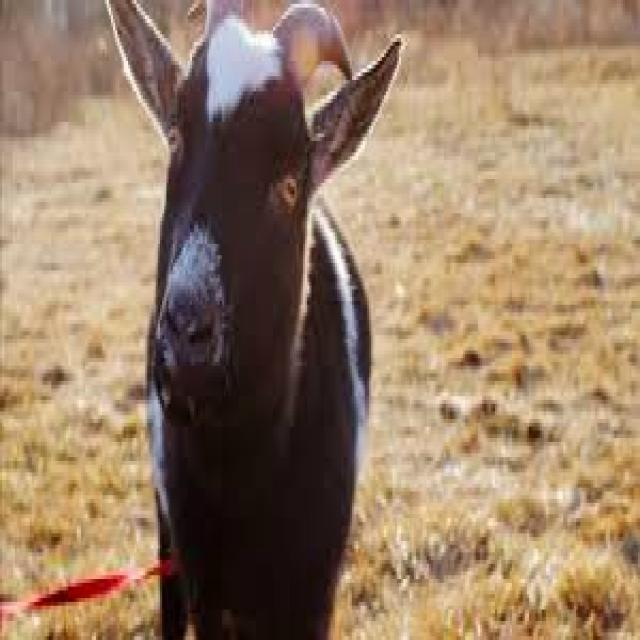goat: (107, 0, 399, 636)
